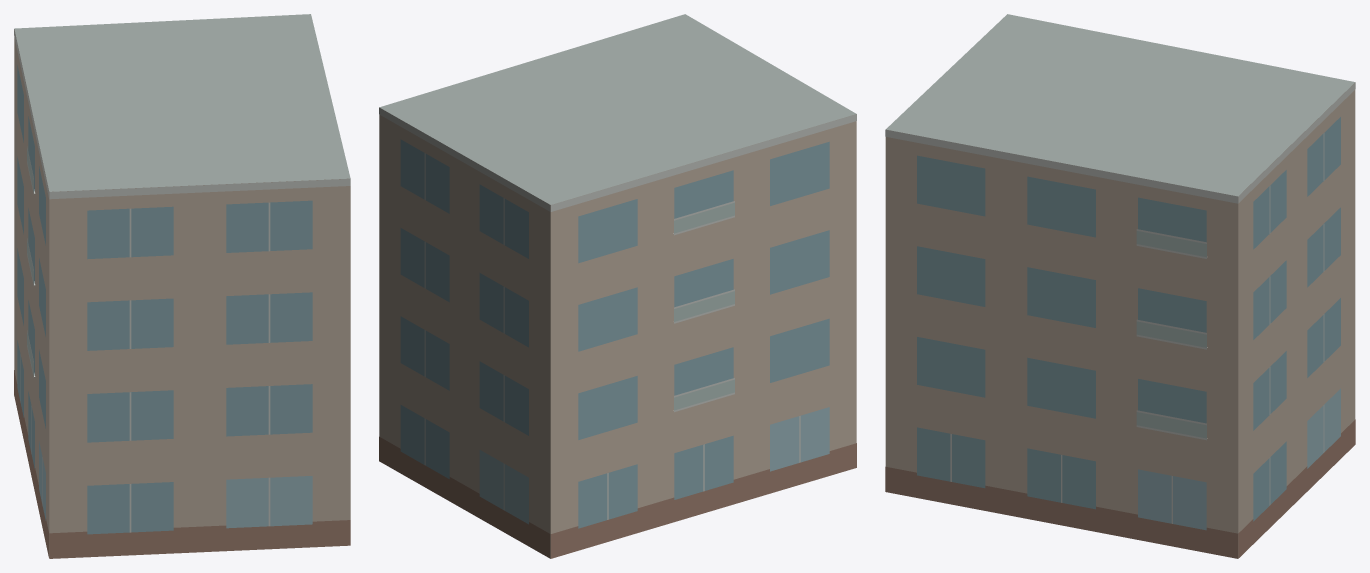
The model's file is survey-upis-32520380.glb.
3 renders of one model, left to right at view 1: azimuth 30°, elevation 25°; view 2: azimuth 150°, elevation 25°; view 3: azimuth 270°, elevation 25°, orthographic. The views are drawn at different scales.
Visible parts, largest first — view 1: survey-upis-32520380.tmp; view 2: survey-upis-32520380.tmp; view 3: survey-upis-32520380.tmp.
Boxes of the visible parts, bbox=[...] form: survey-upis-32520380.tmp: bbox=[14, 14, 350, 558]; survey-upis-32520380.tmp: bbox=[379, 14, 856, 558]; survey-upis-32520380.tmp: bbox=[885, 14, 1355, 558].
Size of the model in its own units: 13.18 by 12.2 by 14.35.
